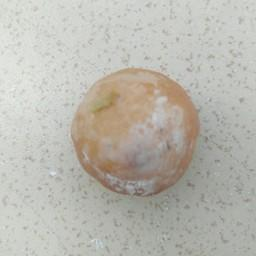Bad_lime: (70, 64, 201, 204)
